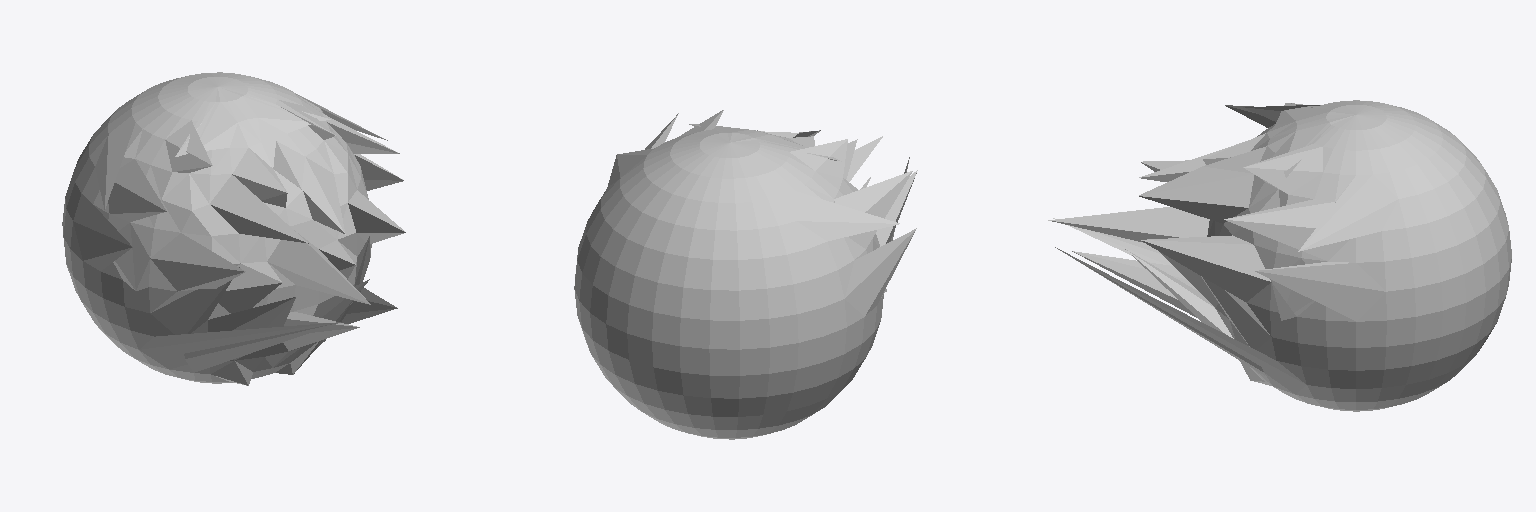
File: flame.obj
3 views of the same model, side by side, from view 1: azimuth 30°, elevation 25°; view 2: azimuth 150°, elevation 25°; view 3: azimuth 270°, elevation 25° (orthographic).
Parts seen in each view (by area): view 1: Sphere_Sphere.001; view 2: Sphere_Sphere.001; view 3: Sphere_Sphere.001.
Boxes of the visible parts, <box> form: Sphere_Sphere.001: <box>62,72,405,385</box>; Sphere_Sphere.001: <box>574,110,917,439</box>; Sphere_Sphere.001: <box>1048,100,1511,411</box>.
Size of the model in its own units: 2.11 by 2 by 2.98.